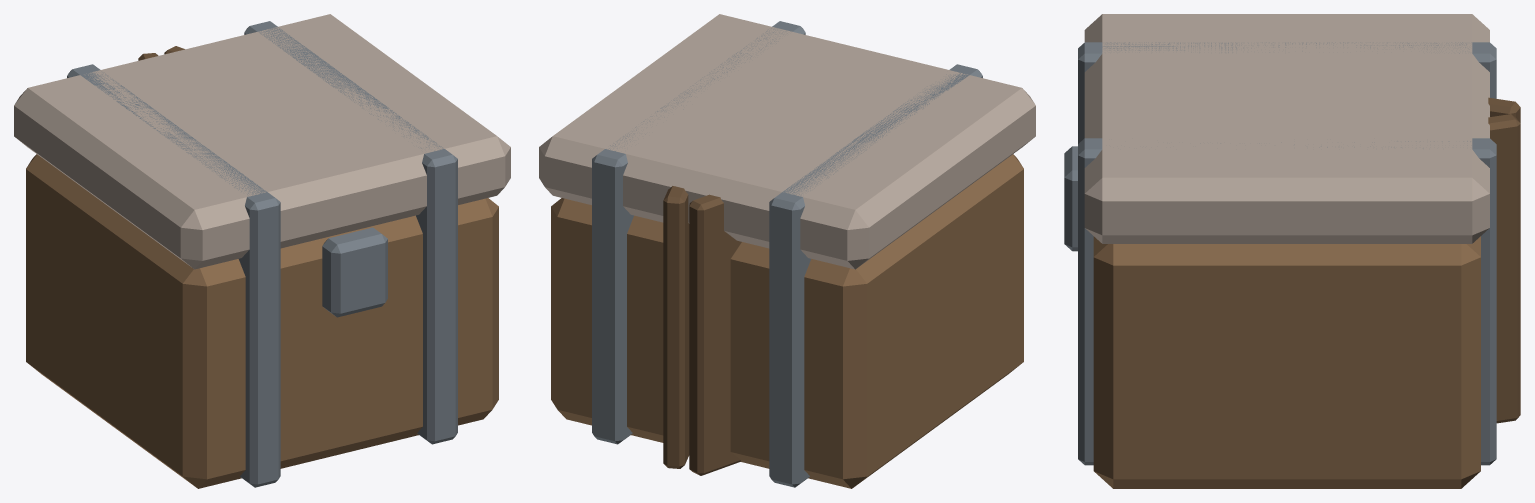
File: cargo_crate.glb
3 renders of one model, left to right at view 1: azimuth 30°, elevation 25°; view 2: azimuth 150°, elevation 25°; view 3: azimuth 270°, elevation 25°, orthographic. The views are drawn at different scales.
Bounding box in the file's own units: 0.96 × 0.7912 × 1.04.
